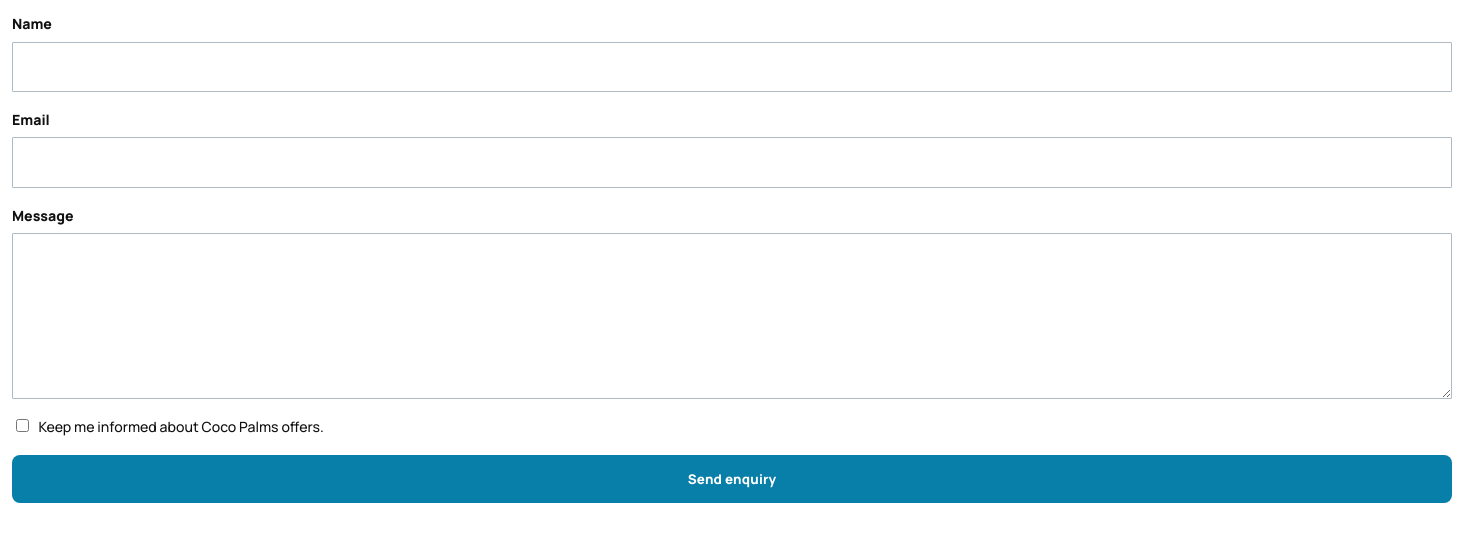
Test: contact form › shows a useful failure message when the contact request cannot reach the server
The width and height of the screenshot is (1464, 560).
Step 1. Type "Alex Guest" into the field labelled "Name" → (732, 67), box [12,42,1452,92]
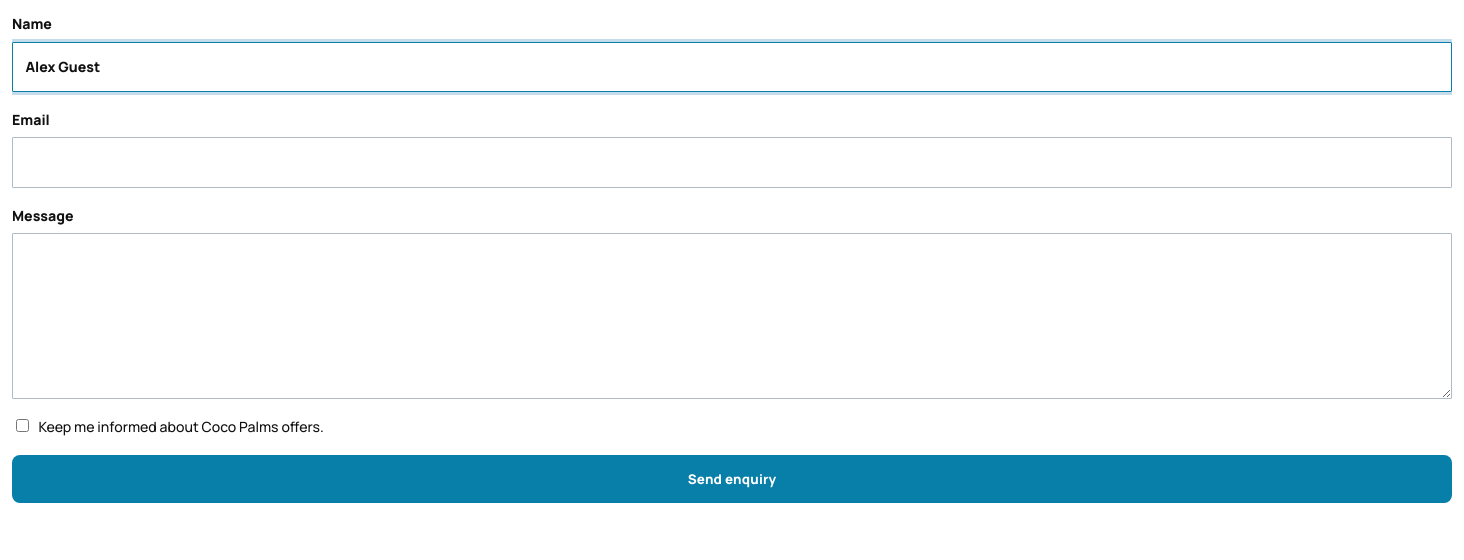
Step 2. Type "alex@example.com" into the field labelled "Email" → (732, 162), box [12,137,1452,188]
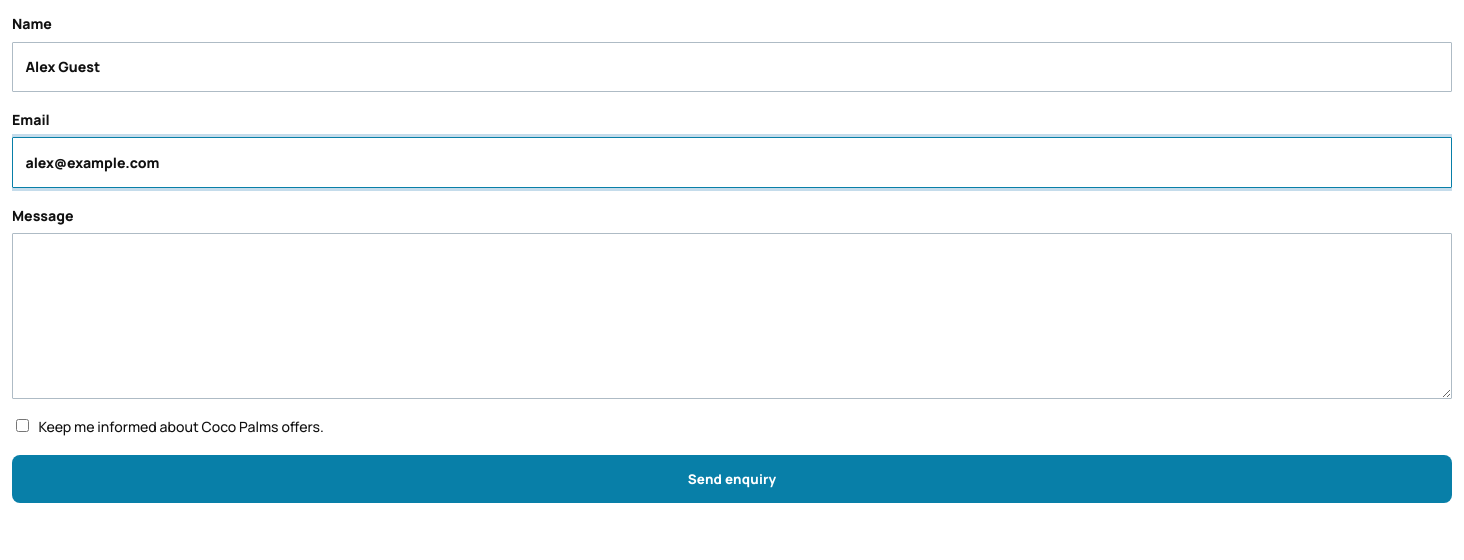
Step 3. Type "Are these dates available?" into the text box labelled "Message" → (732, 316), box [12,233,1452,399]
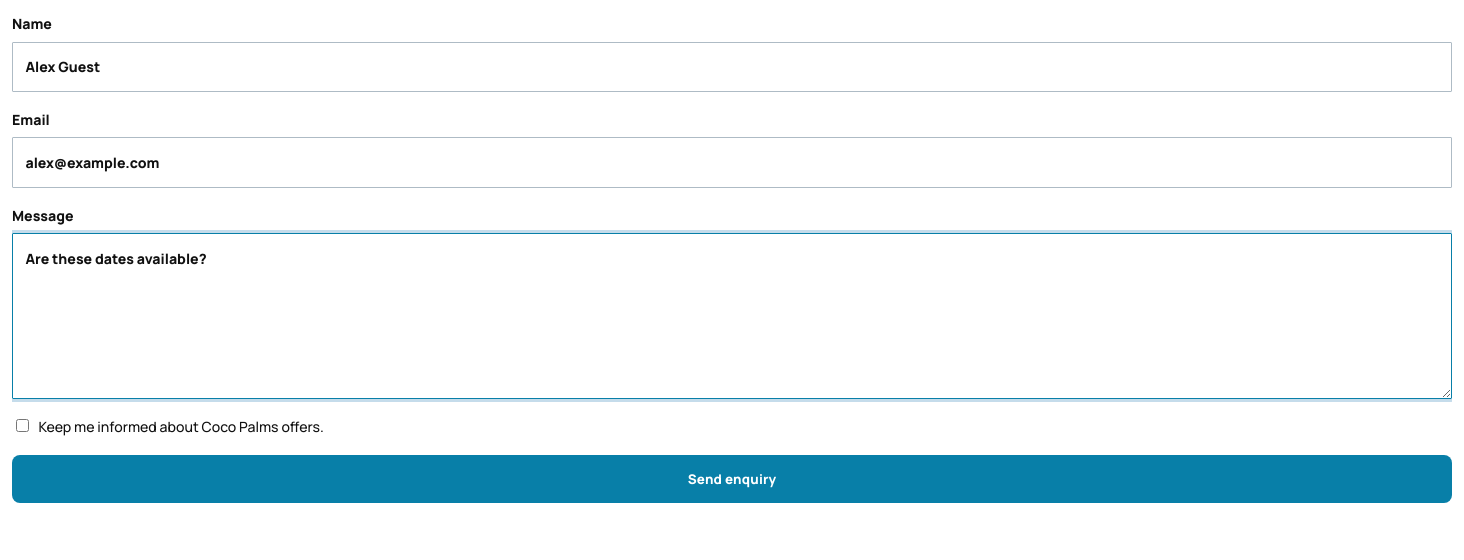
Step 4. Click the button "Send enquiry" → (732, 479), box [12,455,1452,503]
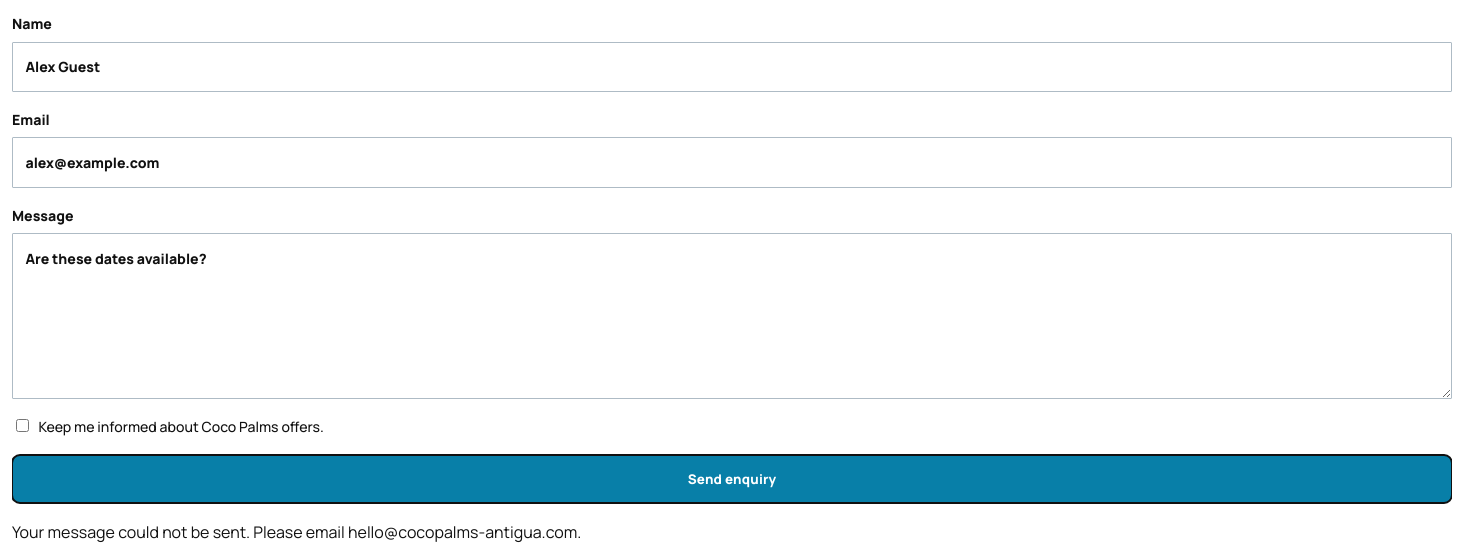
Check: the message reads "Your message could not be sent. Please email hello@cocopalms-antigua.com.", box [12,521,581,543]
